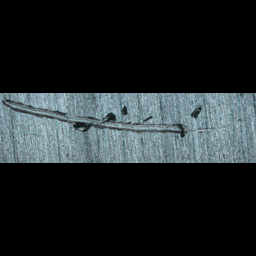d: (1, 96, 249, 139)
